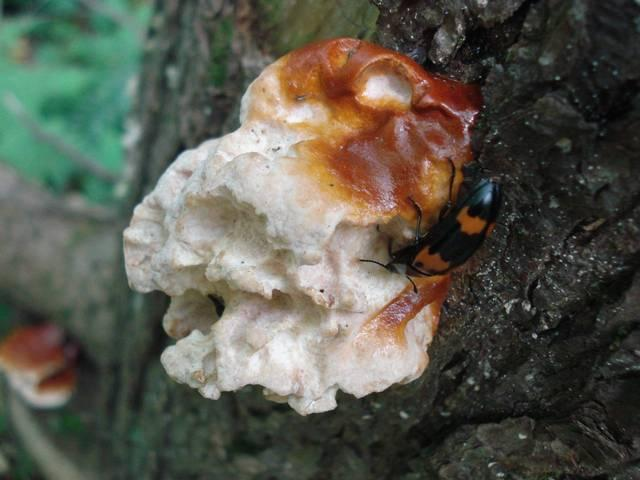poisonous_mushroom: (120, 34, 501, 416)
